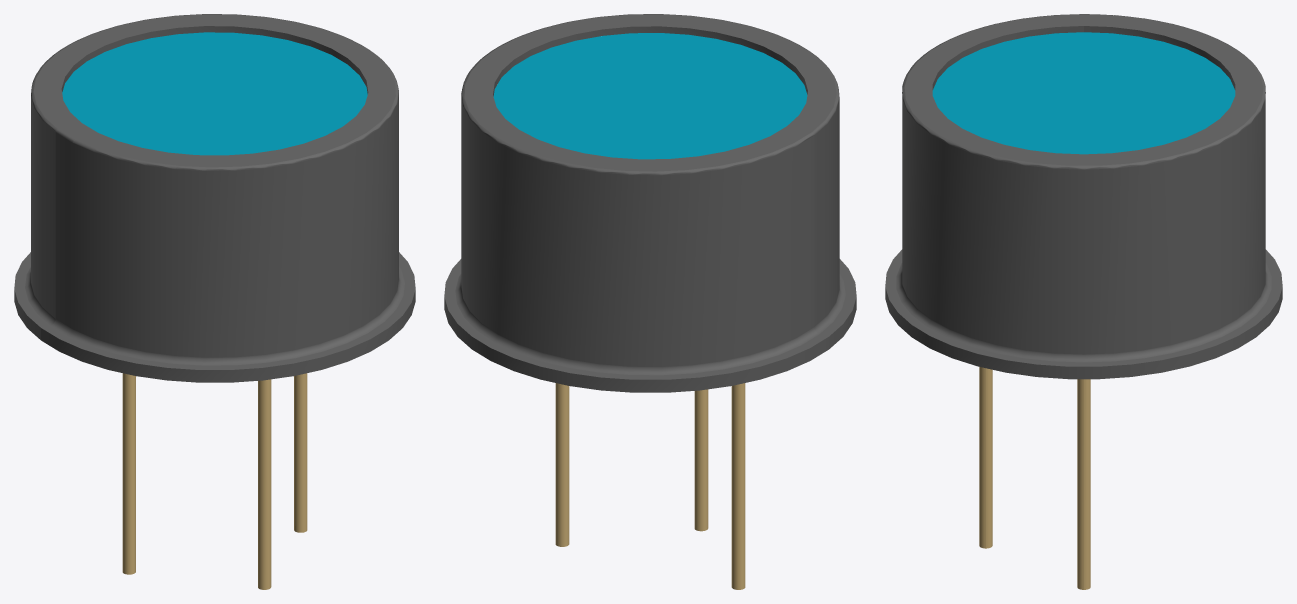
File: kc-to-8-3_window.glb
The picture shows the model from 3 angles, left to right: view 1: azimuth 30°, elevation 25°; view 2: azimuth 150°, elevation 25°; view 3: azimuth 270°, elevation 25°; orthographic projection. The views are drawn at different scales.
Parts seen in each view (by area): view 1: 0.16666666666666666_0.16666666666666666_0.16666666666666666_, 0_0.3333333333333333_0.5_0, 0.75_0.5_0.25_0.9; view 2: 0.16666666666666666_0.16666666666666666_0.16666666666666666_, 0_0.3333333333333333_0.5_0, 0.75_0.5_0.25_0.9; view 3: 0.16666666666666666_0.16666666666666666_0.16666666666666666_, 0_0.3333333333333333_0.5_0, 0.75_0.5_0.25_0.9.
Boxes of the visible parts, <box> form: 0.16666666666666666_0.16666666666666666_0.16666666666666666_: <box>14,14,415,382</box>; 0_0.3333333333333333_0.5_0: <box>62,32,367,155</box>; 0.75_0.5_0.25_0.9: <box>122,373,307,589</box>; 0.16666666666666666_0.16666666666666666_0.16666666666666666_: <box>444,14,856,392</box>; 0_0.3333333333333333_0.5_0: <box>493,33,807,159</box>; 0.75_0.5_0.25_0.9: <box>555,383,745,589</box>; 0.16666666666666666_0.16666666666666666_0.16666666666666666_: <box>885,14,1282,379</box>; 0_0.3333333333333333_0.5_0: <box>932,32,1235,154</box>; 0.75_0.5_0.25_0.9: <box>979,367,1090,589</box>.
Bounding box in the file's own units: 1.44 × 1.82 × 1.44.
